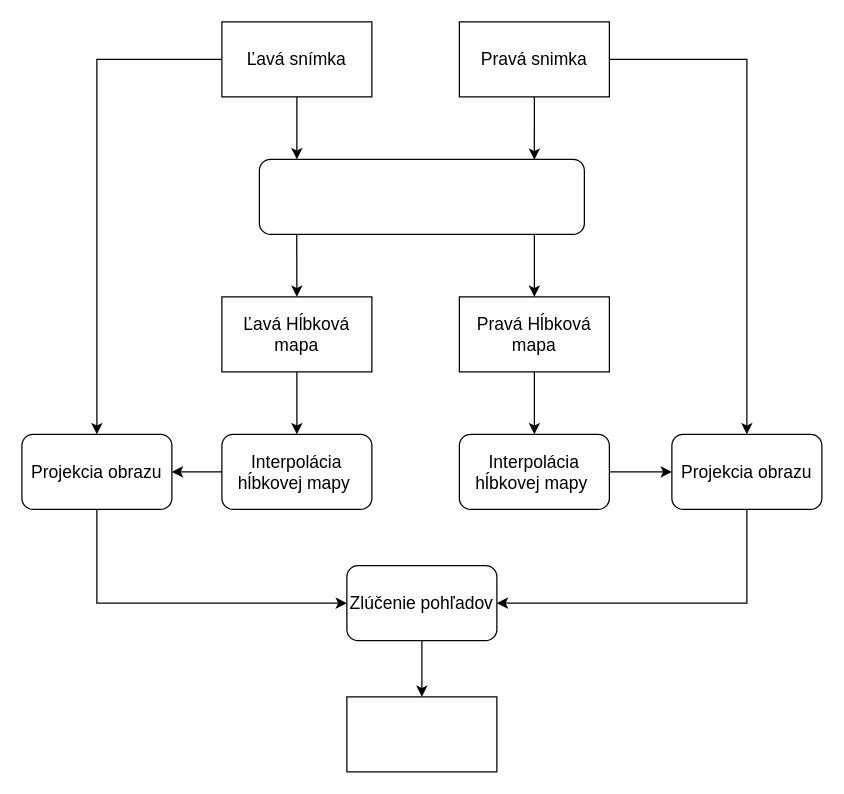
This 844x794 diagram has some shape labels left out. The centre of each missing label's shape, as x and y in pixels:
"Stredový pohľad" goes at pixel 421 734.
"Výpočet disparity" goes at pixel 421 196.
